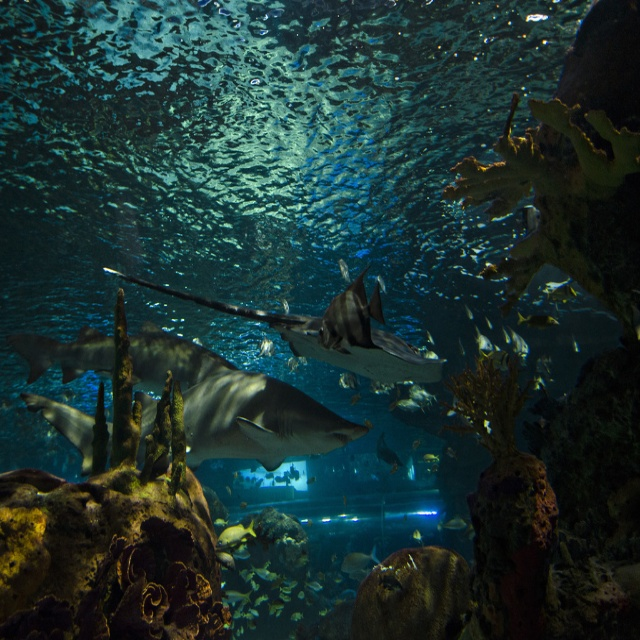Shark: (19, 366, 364, 479)
